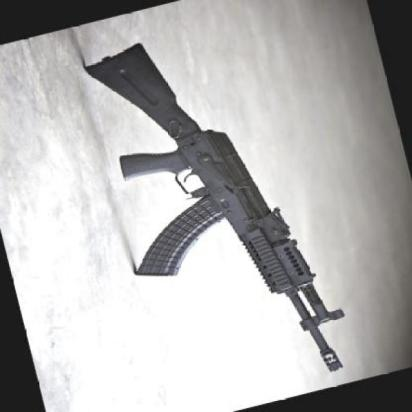Gun: (66, 4, 351, 412)
